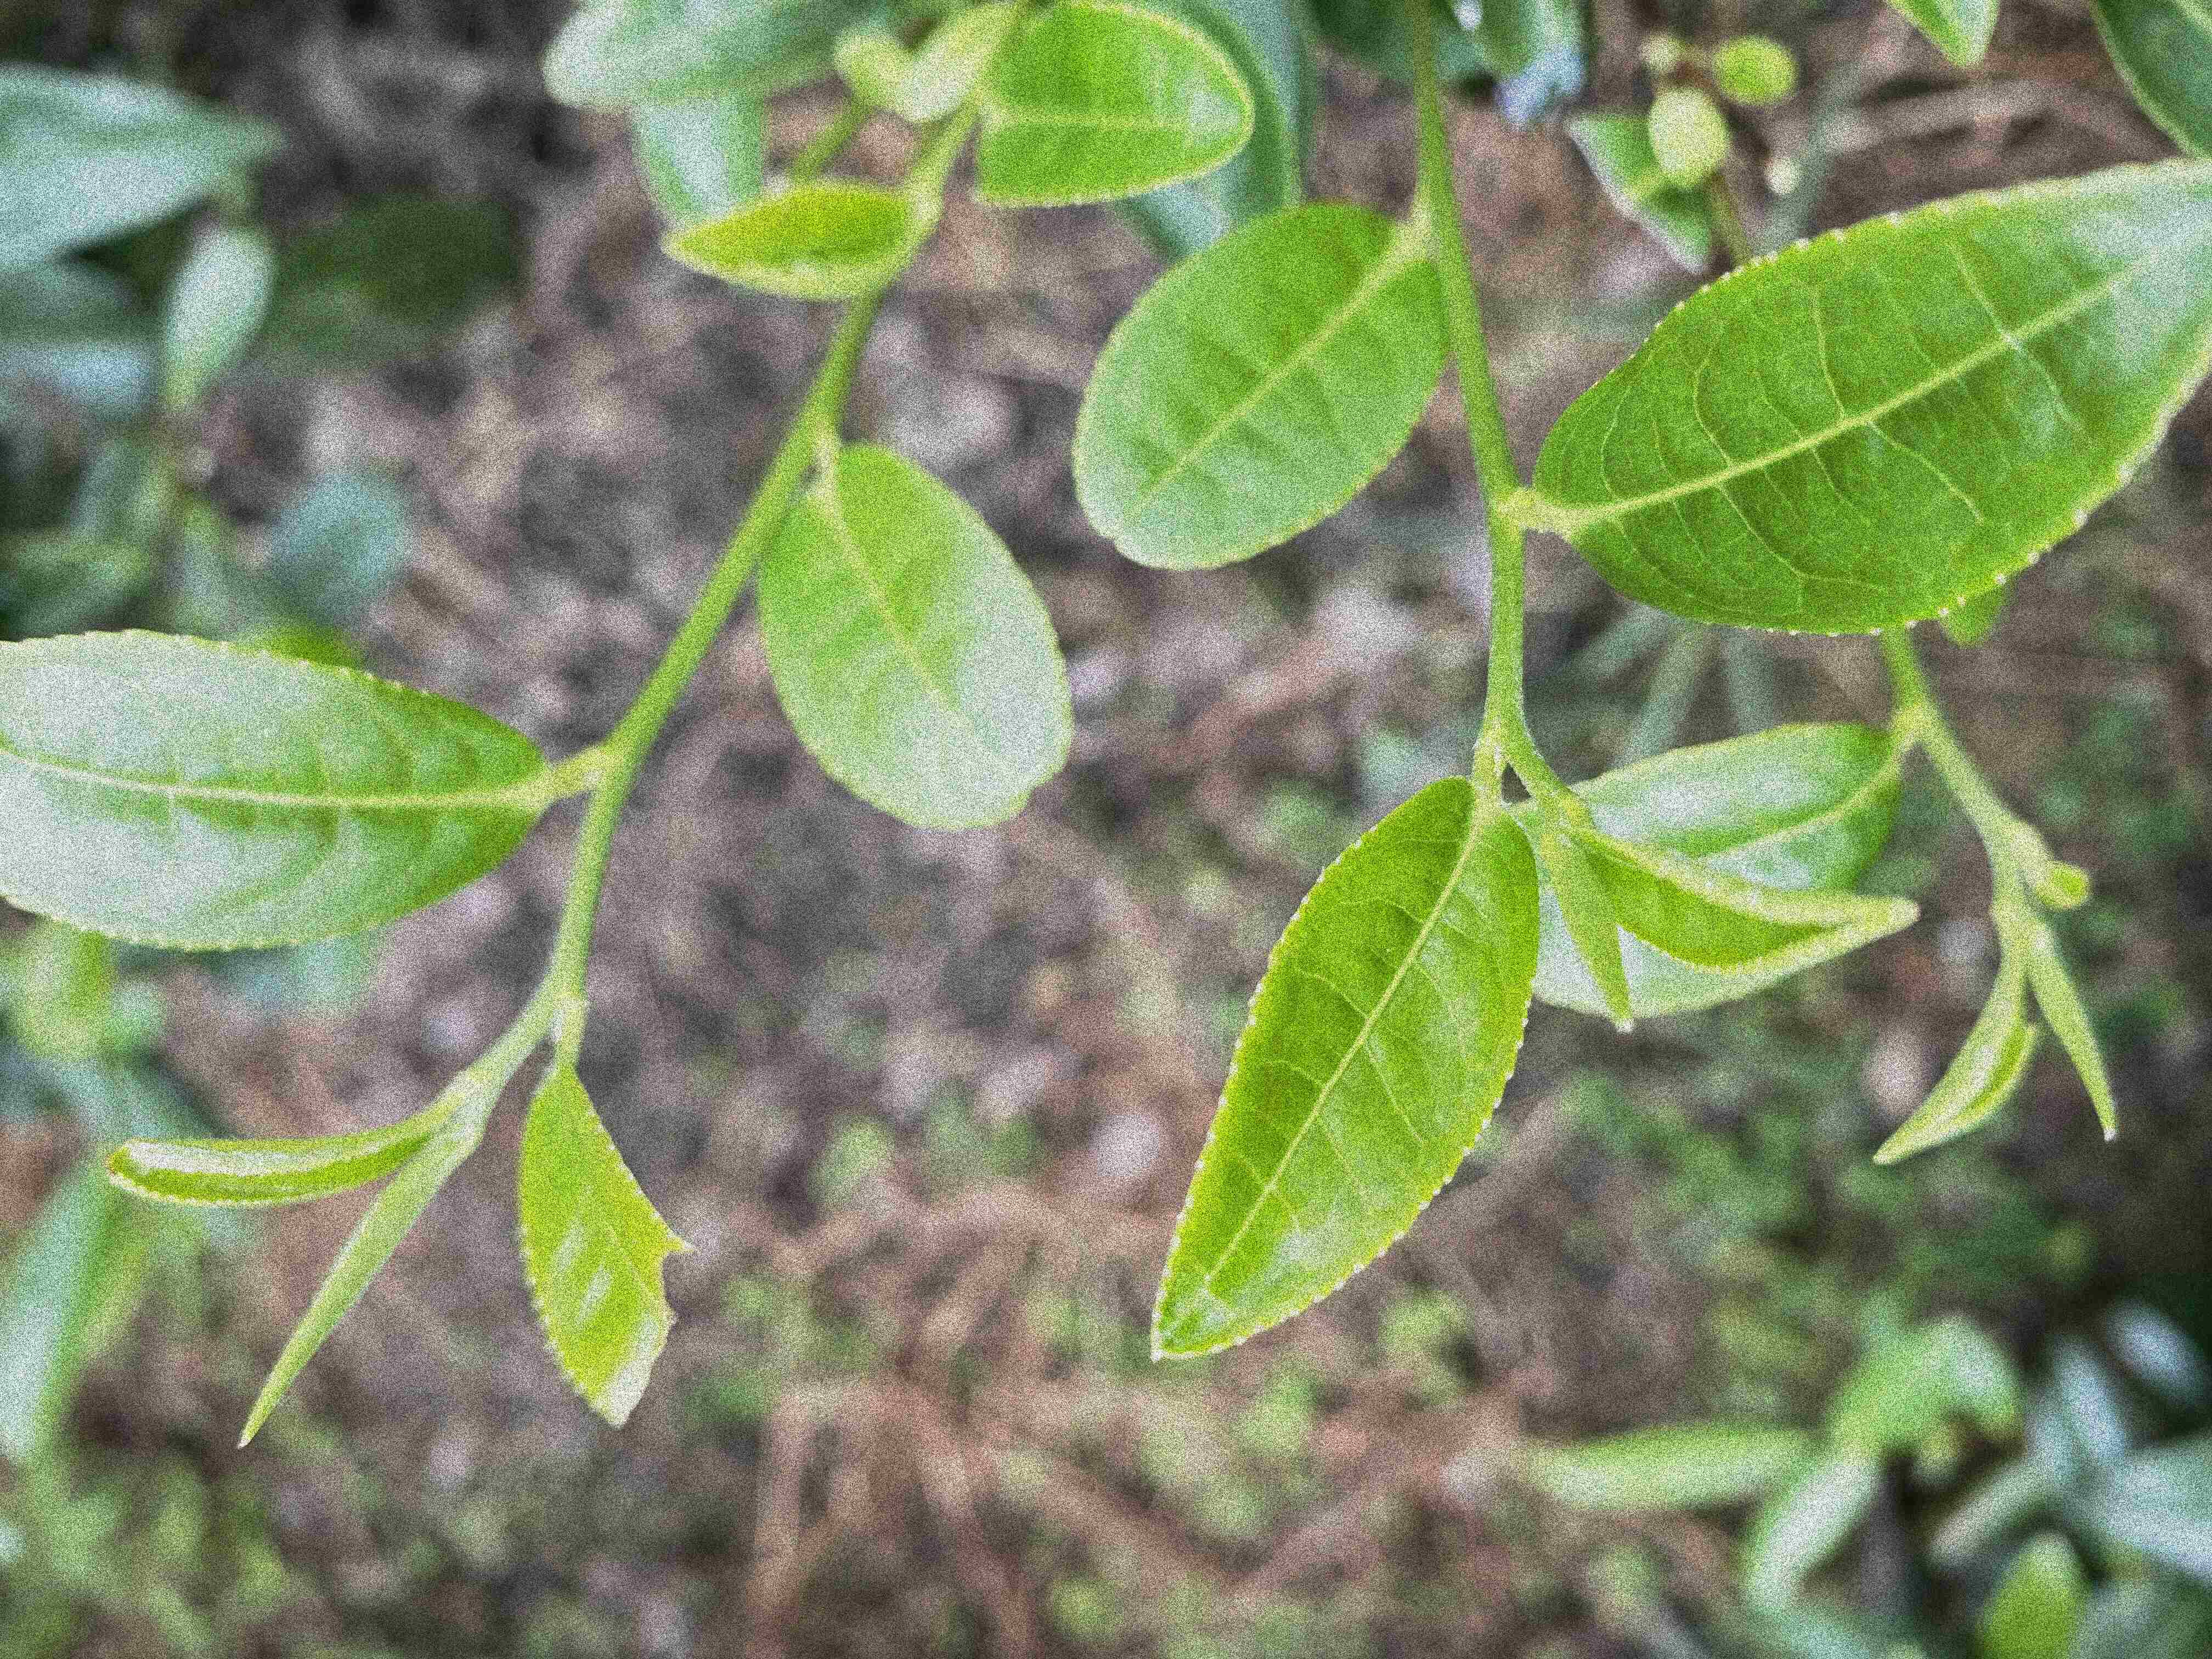chihuo_high: (514, 1060, 700, 1427)
healthy: (1533, 159, 2209, 638), (1151, 775, 1541, 1359), (2, 626, 549, 953), (1073, 204, 1447, 573), (751, 441, 1078, 831)
